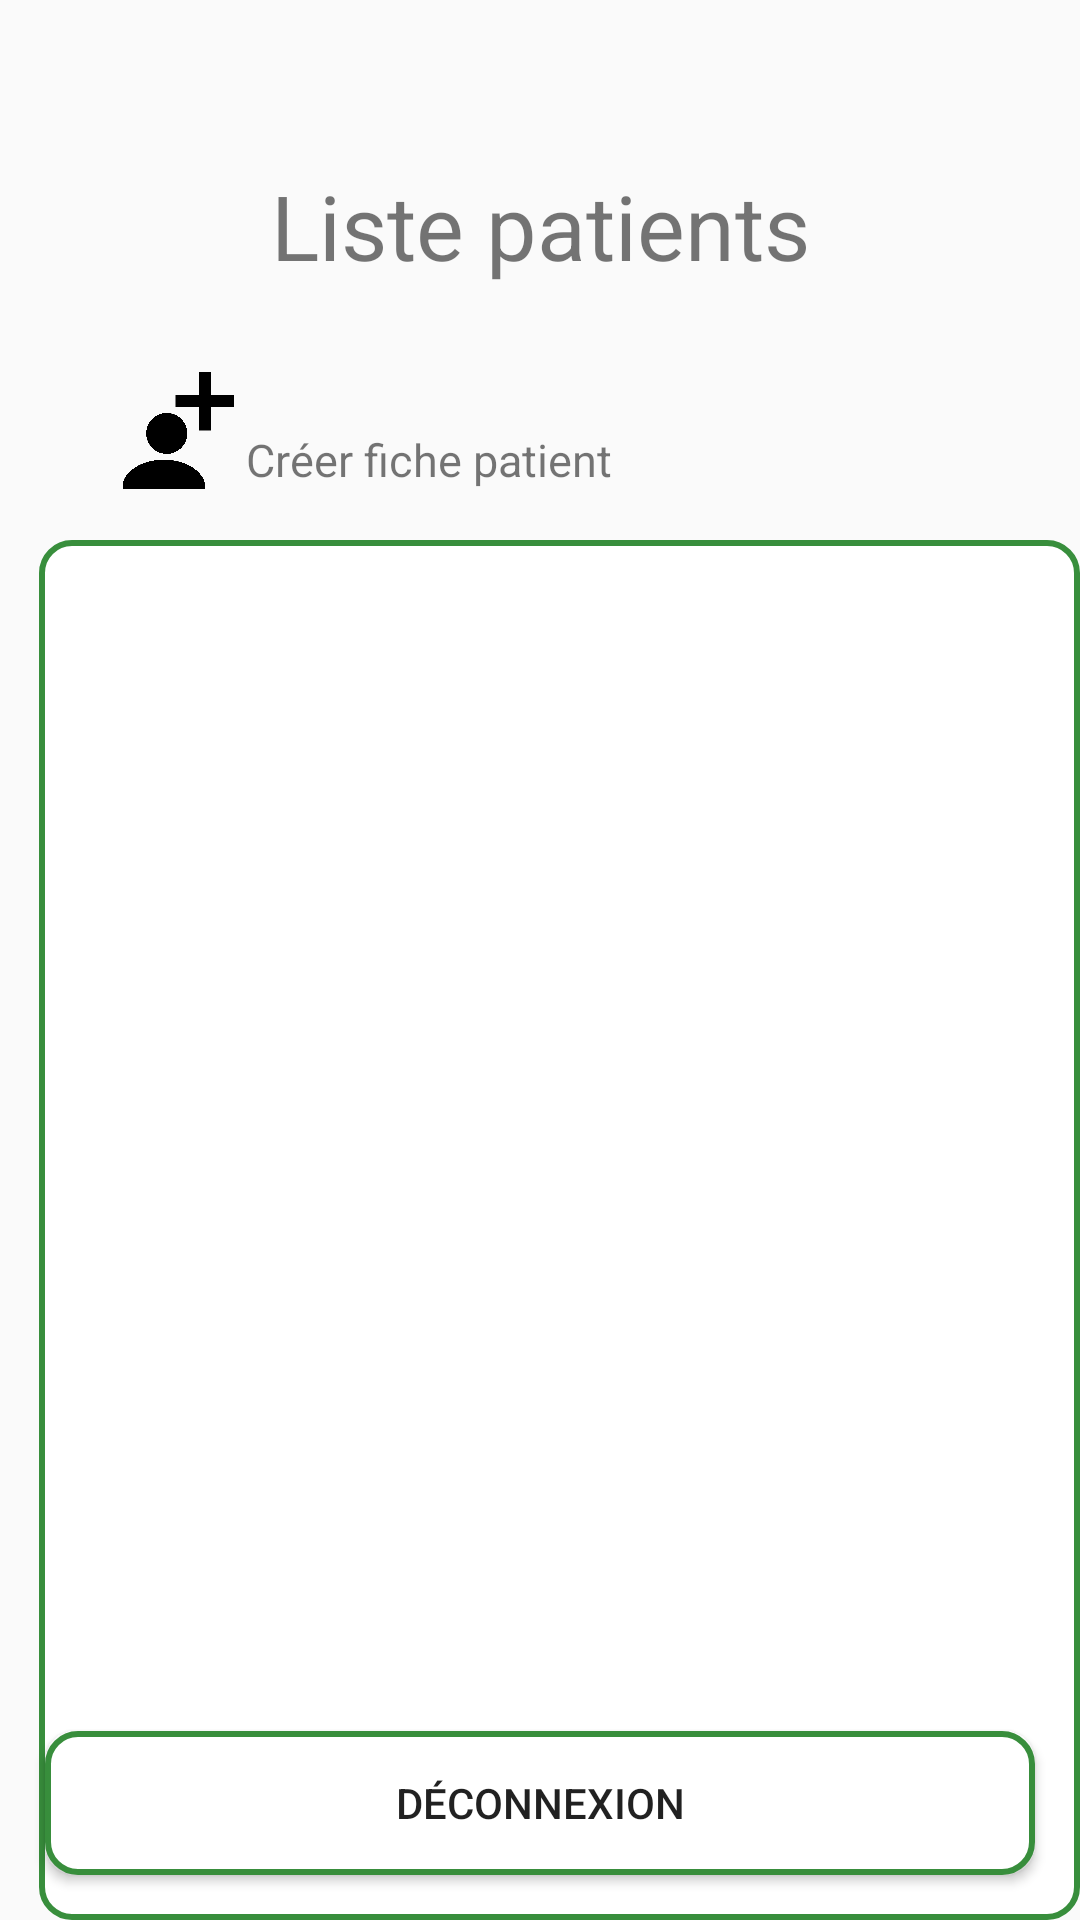

Screen size 1080w x 1920h. Icon name, then its box in pixels as [x1, y1, x2, y2]:
add: [123, 372, 234, 489]
